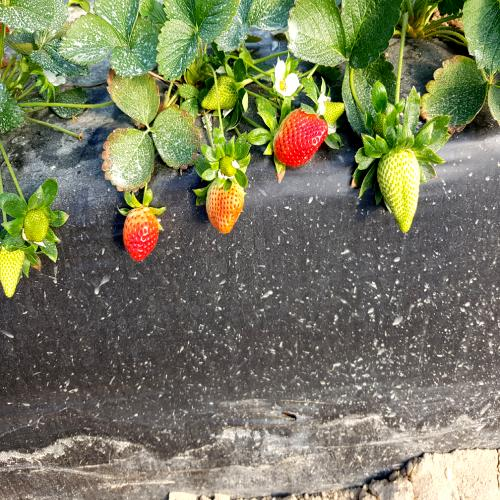ripe: (271, 102, 327, 177), (120, 206, 162, 261)
